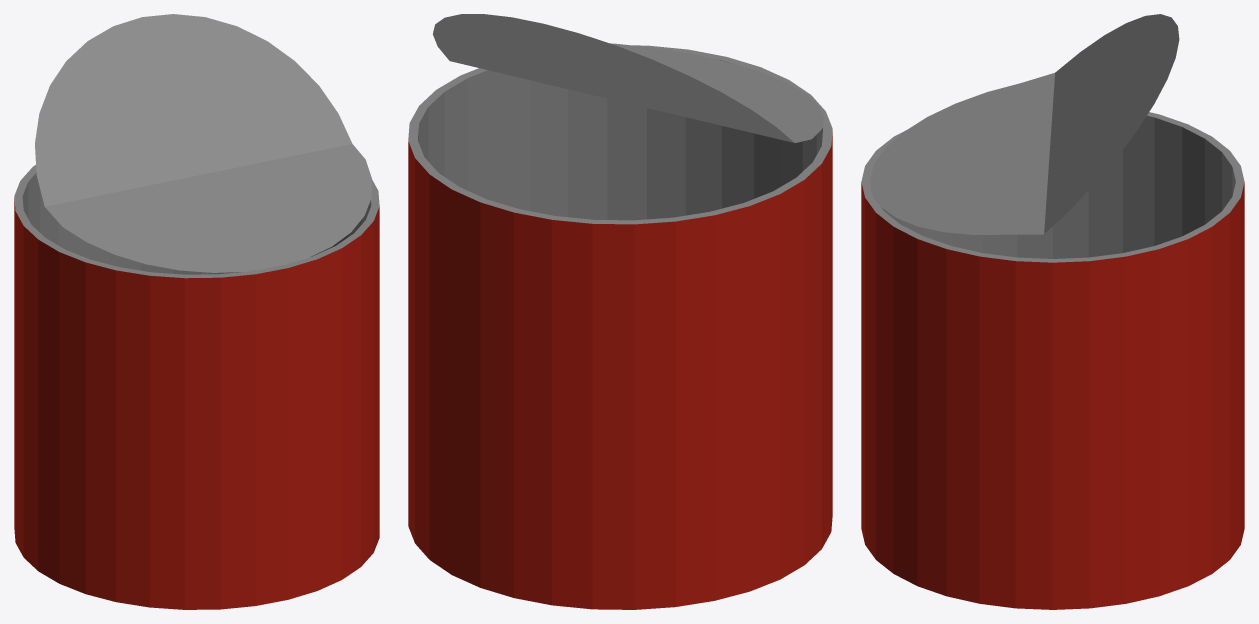
The model's file is Tincan.fbx.
3 views of the same model, side by side, from view 1: azimuth 30°, elevation 25°; view 2: azimuth 150°, elevation 25°; view 3: azimuth 270°, elevation 25° (orthographic). The views are drawn at different scales.
Parts seen in each view (by area): view 1: TinCanIntern, Cover; view 2: TinCanIntern, Cover; view 3: TinCanIntern, Cover.
Boxes of the visible parts, x1,y1,x2,y2 form: TinCanIntern: (14,165,379,609); Cover: (35,14,371,272); TinCanIntern: (408,45,832,609); Cover: (433,14,824,142); TinCanIntern: (861,112,1244,609); Cover: (870,14,1179,234).
Bounding box in the file's own units: 200 × 283 × 200.
